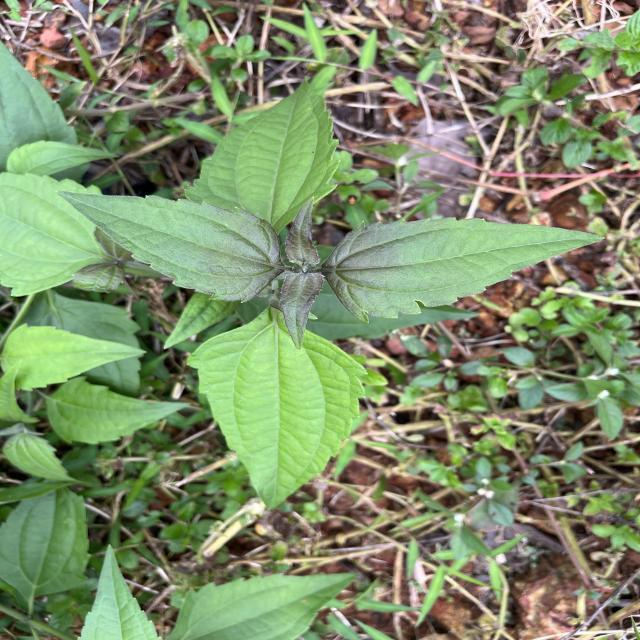Chromolaena odorata: (326, 210, 610, 328), (49, 187, 286, 307)
